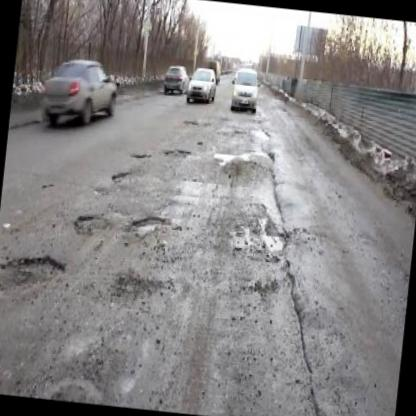pothole: (0, 247, 66, 290), (113, 270, 150, 302), (128, 209, 168, 238), (70, 206, 102, 240), (162, 142, 193, 163), (111, 164, 130, 184), (131, 148, 153, 160)
